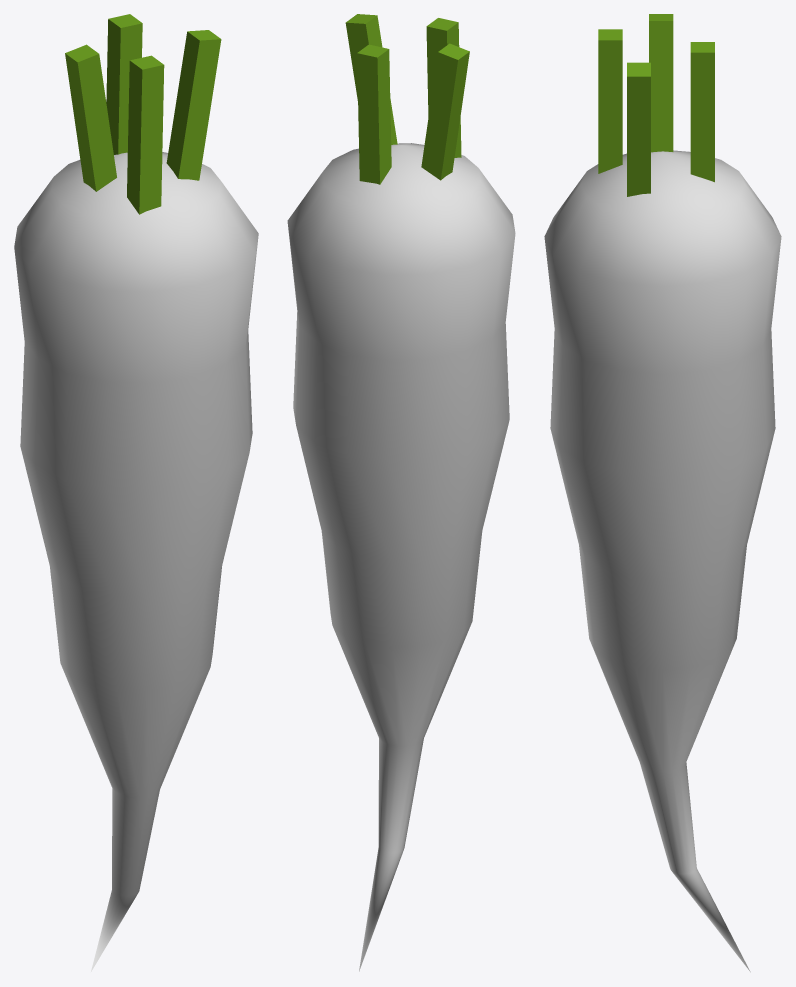
File: carrot-full.fbx
3 renders of one model, left to right at view 1: azimuth 30°, elevation 25°; view 2: azimuth 150°, elevation 25°; view 3: azimuth 270°, elevation 25°, orthographic. The views are drawn at different scales.
Parts seen in each view (by area): view 1: Carot-full; view 2: Carot-full; view 3: Carot-full.
Part boxes in pixels (x1,y1,x2,y2): Carot-full: (14, 14, 258, 971); Carot-full: (287, 14, 515, 971); Carot-full: (544, 14, 781, 972).
Bounding box in the file's own units: 61.83 × 268 × 61.83.
